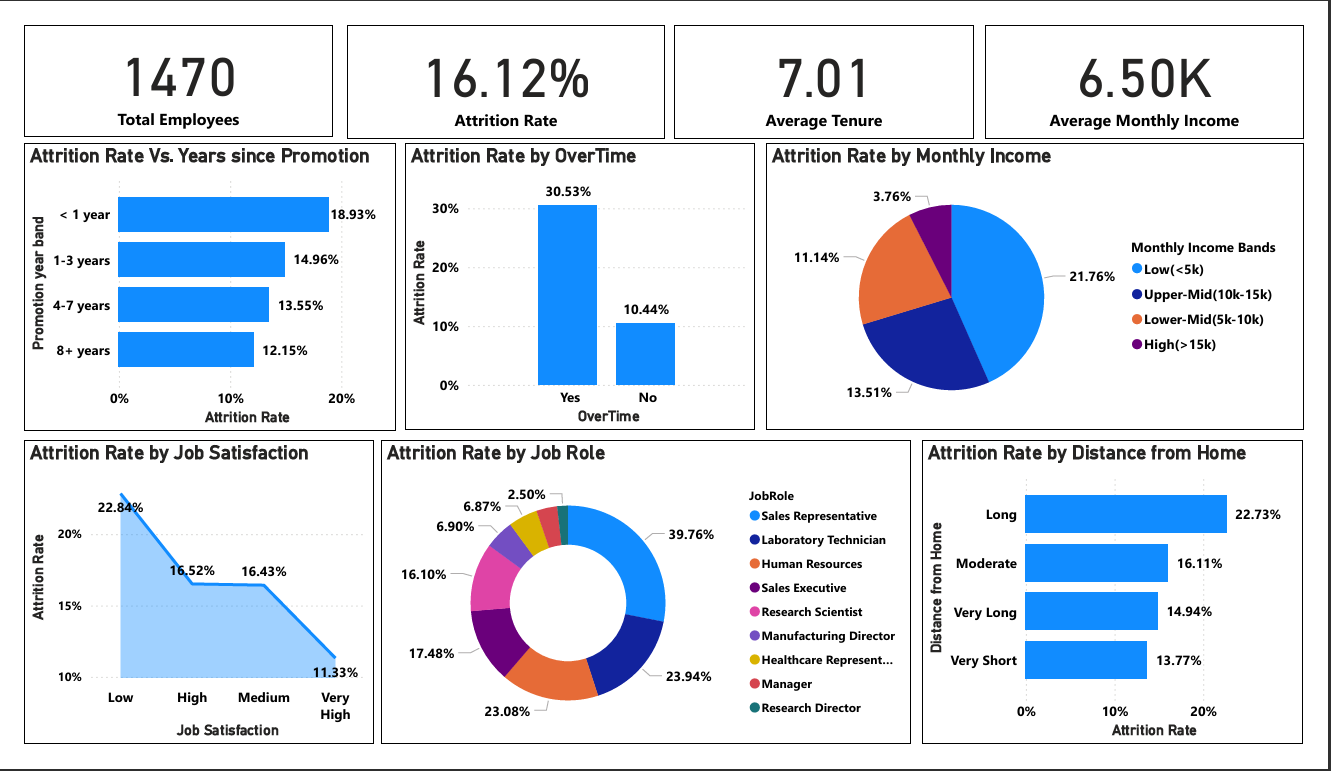

The page's visual inventory and layout, read from the dashboard file:
{"tool":"powerbi","page":{"name":"HR Emp Attrition","canvas":[1280,720],"ordinal":2},"visuals":[{"type":"clusteredColumnChart","fields":{"Category":["HR Employee Attrition.OverTime"],"Y":["HR Employee Attrition.OT-Attrition Rate"]},"box":[381.1,117.6,350,287.8],"z":0},{"type":"pieChart","title":"Attrition Rate by Monthly Income","fields":{"Category":["HR Employee Attrition.Monthly Income Bands"],"Y":["HR Employee Attrition.OT-Attrition Rate"]},"box":[741.9,117.6,537.8,287.8],"z":1000},{"type":"barChart","title":"Attrition Rate Vs. Years since Promotion","fields":{"Category":["HR Employee Attrition.Promotion year band"],"Y":["HR Employee Attrition.Attrition Rate"]},"box":[0,118.1,372.5,287.7],"z":2000},{"type":"areaChart","fields":{"Category":["HR Employee Attrition.Job Satisfaction"],"Y":["HR Employee Attrition.Attrition Rate"]},"box":[0,414.7,349.6,304.5],"z":3000},{"type":"donutChart","title":"Attrition Rate by Job Role","fields":{"Category":["HR Employee Attrition.JobRole"],"Y":["HR Employee Attrition.Attrition Rate"]},"box":[357.1,414.7,530,304.5],"z":4000},{"type":"barChart","fields":{"Category":["HR Employee Attrition.Home distance Bands"],"Y":["HR Employee Attrition.Attrition Rate"]},"box":[898.3,414.7,380.9,304.5],"z":5000},{"type":"card","fields":{"Values":["HR Employee Attrition.Total employees"]},"box":[0,0,309.5,112.2],"z":6000},{"type":"card","fields":{"Values":["HR Employee Attrition.Attrition Rate"]},"box":[323,0,317.6,113.5],"z":7000},{"type":"card","fields":{"Values":["HR Employee Attrition.Average Tenure"]},"box":[650,0,300,113.5],"z":8000},{"type":"card","fields":{"Values":["HR Employee Attrition.Average Monthly Income"]},"box":[960.8,0,318.9,113.5],"z":9000}]}

Visuals, with their boxes in screenshot pixels (x1, y1, x2, y2), scaled from the page's 1280x720 canvas onto the 1331x771 screenshot:
clusteredColumnChart - HR Employee Attrition.OverTime x HR Employee Attrition.OT-Attrition Rate: region(396, 126, 760, 434)
"Attrition Rate by Monthly Income" pieChart: region(771, 126, 1330, 434)
"Attrition Rate Vs. Years since Promotion" barChart: region(0, 126, 387, 435)
areaChart - HR Employee Attrition.Job Satisfaction x HR Employee Attrition.Attrition Rate: region(0, 444, 364, 770)
"Attrition Rate by Job Role" donutChart: region(371, 444, 922, 770)
barChart - HR Employee Attrition.Home distance Bands x HR Employee Attrition.Attrition Rate: region(934, 444, 1330, 770)
card - HR Employee Attrition.Total employees: region(0, 0, 322, 120)
card - HR Employee Attrition.Attrition Rate: region(336, 0, 666, 122)
card - HR Employee Attrition.Average Tenure: region(676, 0, 988, 122)
card - HR Employee Attrition.Average Monthly Income: region(999, 0, 1330, 122)
